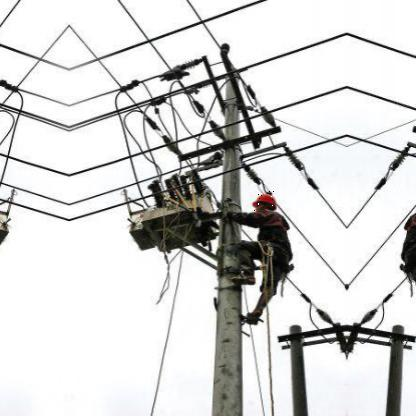safetyhelmet: (252, 191, 278, 212)
